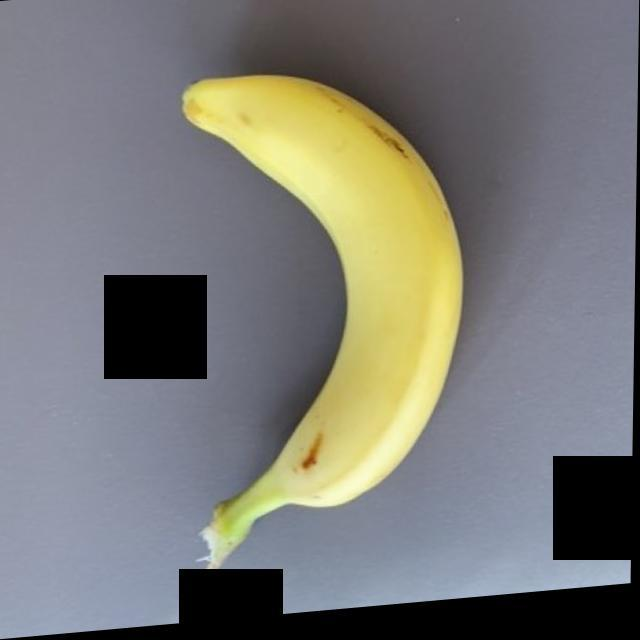banana: (183, 81, 463, 544)
